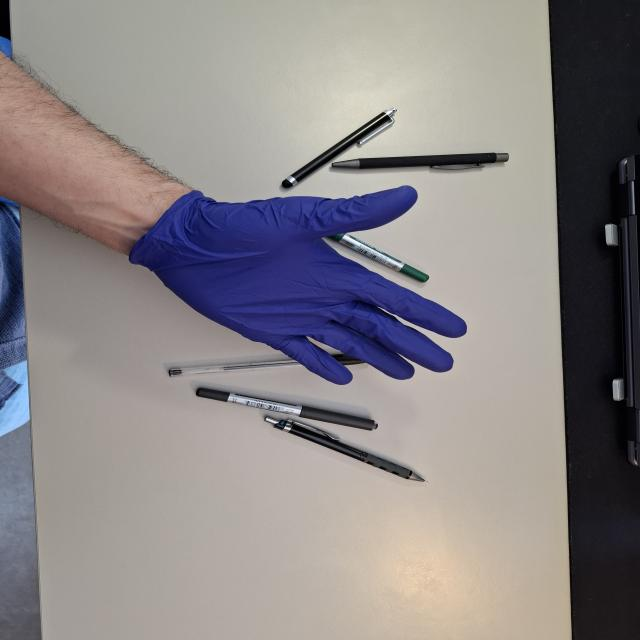glove_on: (127, 183, 470, 390)
